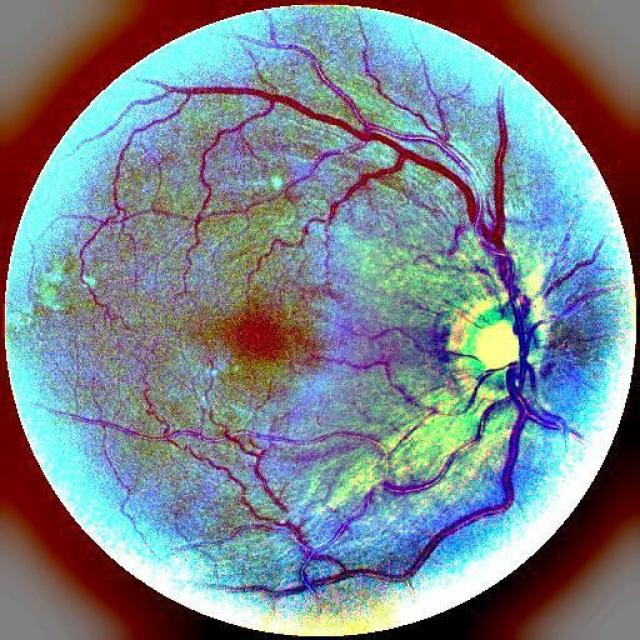Macula: (222, 310, 286, 361)
Nerves: (79, 21, 564, 579), (486, 95, 566, 432), (186, 449, 281, 530), (280, 522, 380, 592), (504, 439, 518, 500)
Optic Disk: (470, 320, 518, 368)
